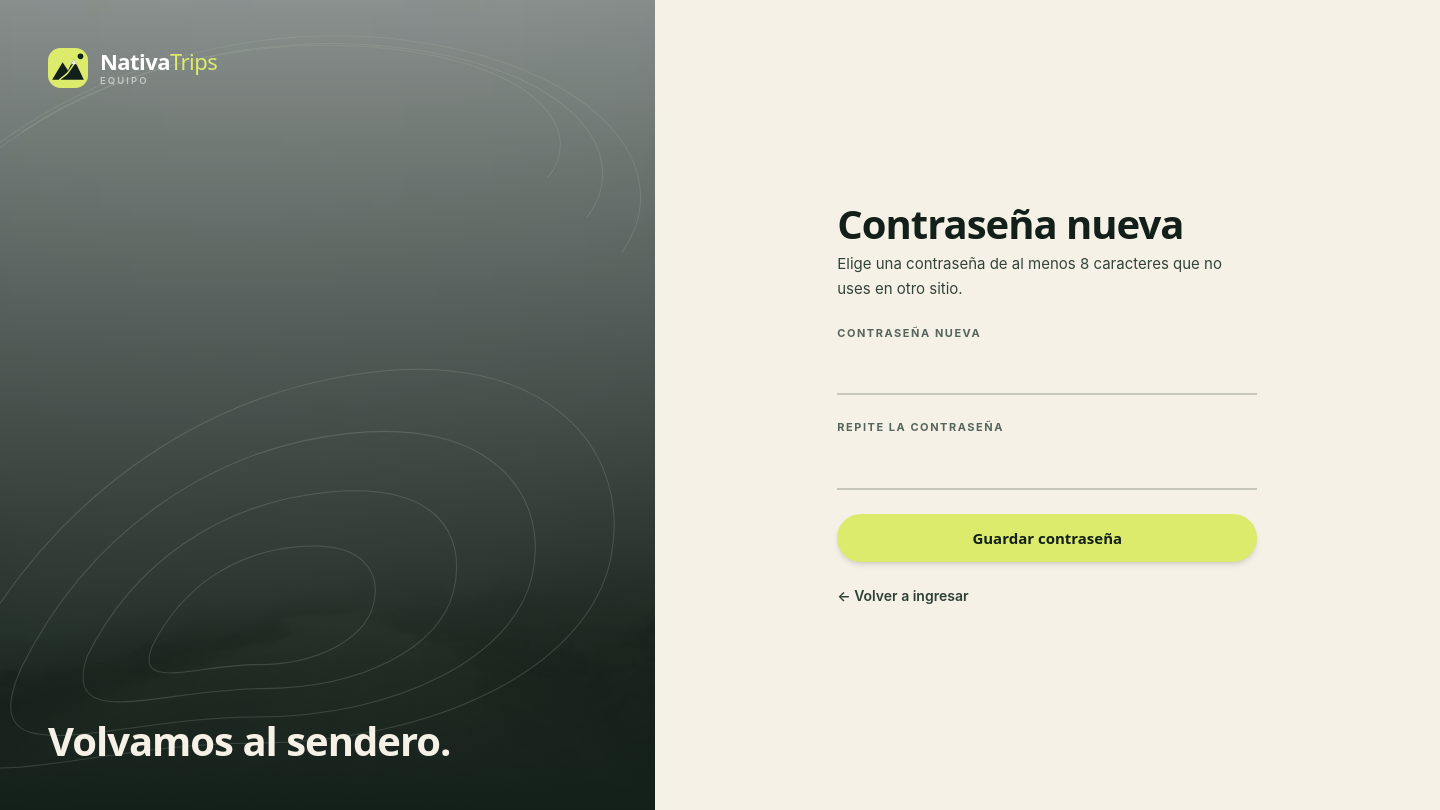
Test: recuperación de la contraseña › un enlace vencido ofrece pedir otro
The image size is (1440, 810).
Type "paramo-2027" into the password field labelled "Contraseña nueva" at x=1047, y=371, box x1=837 y1=347 x2=1257 y2=395
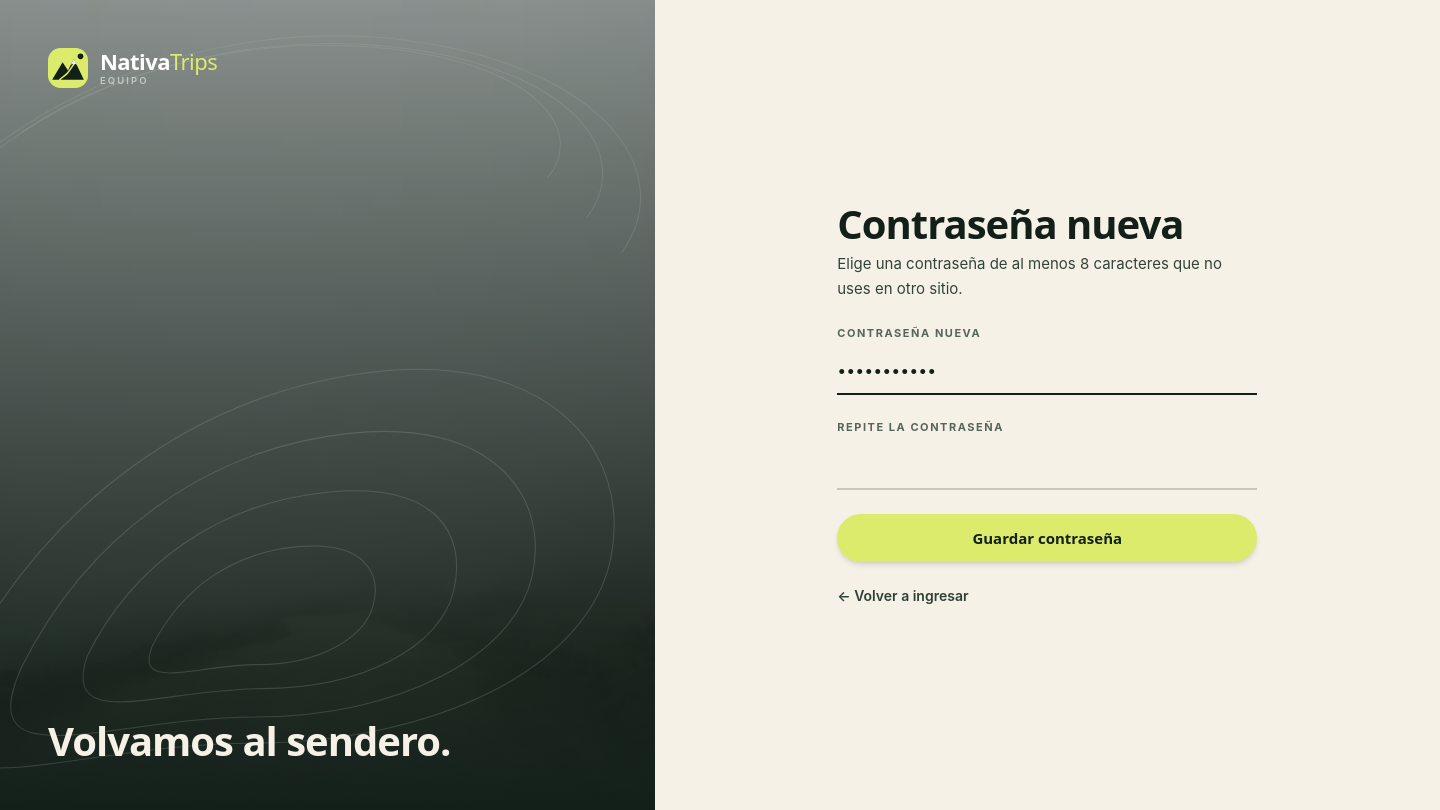
Type "paramo-2027" into the password field labelled "Repite la contraseña" at x=1047, y=466, box x1=837 y1=442 x2=1257 y2=490
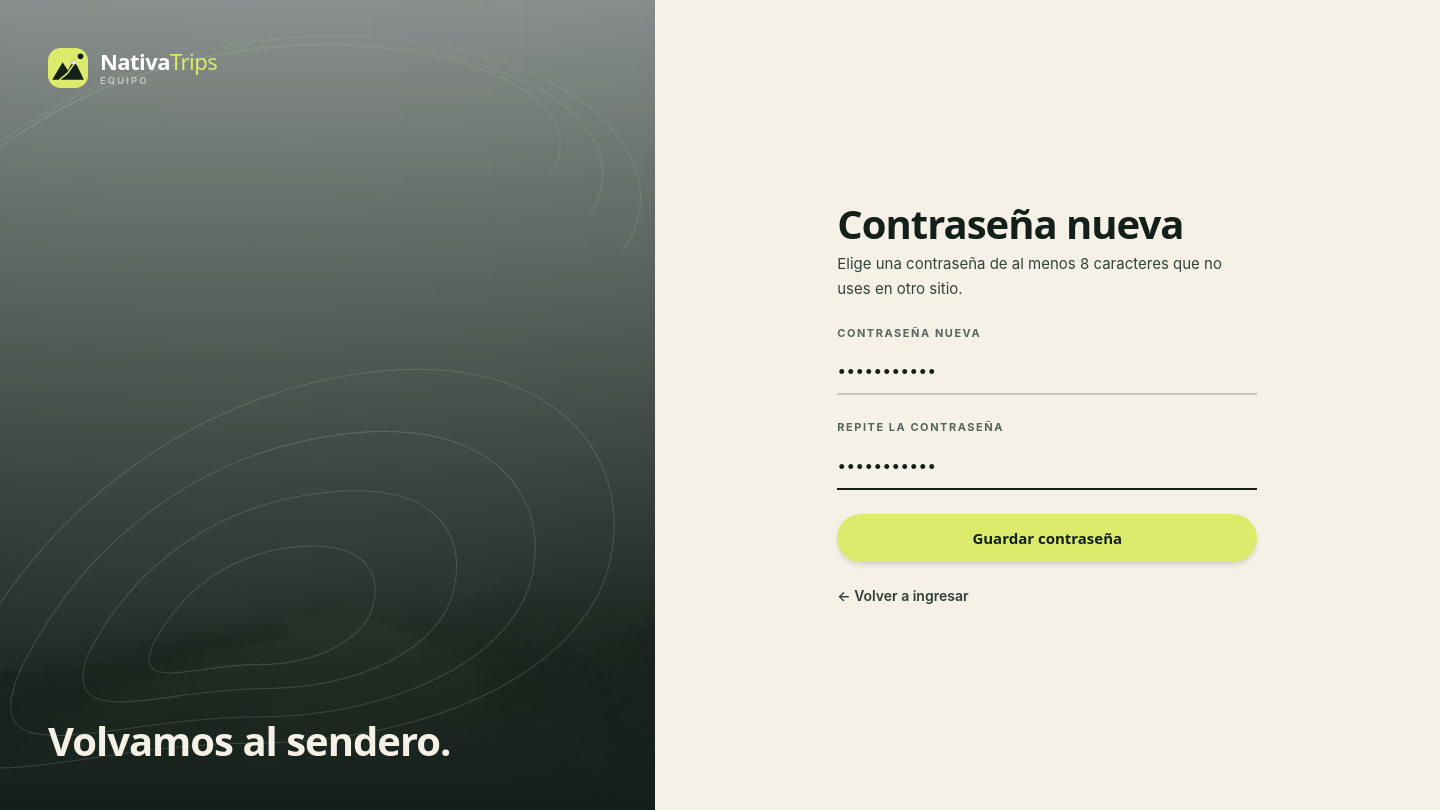
Click the button "Guardar contraseña" at x=1047, y=538, box x1=837 y1=514 x2=1257 y2=562
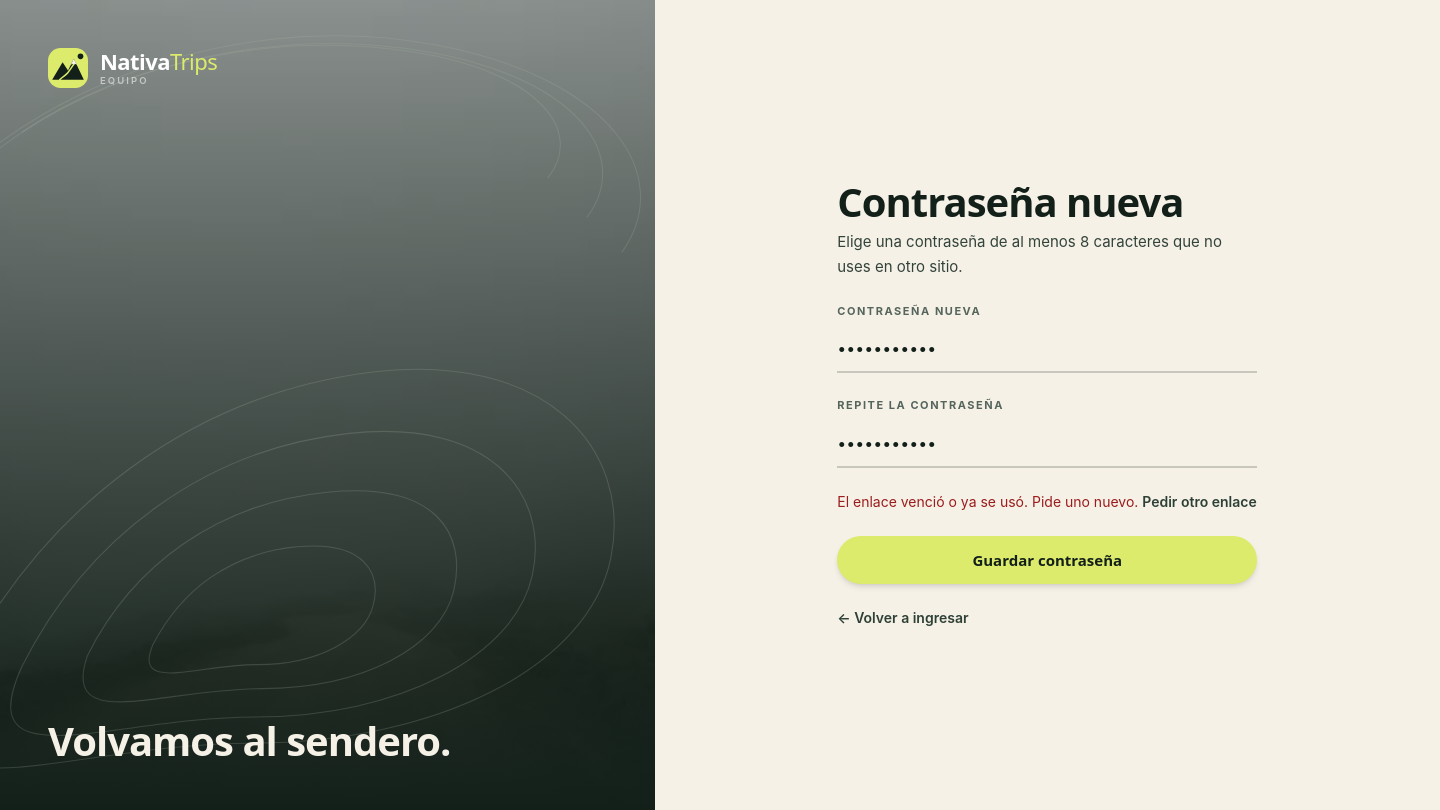
Result: the message shows "El enlace venció o ya se usó" at x1=837 y1=493 x2=1138 y2=510
